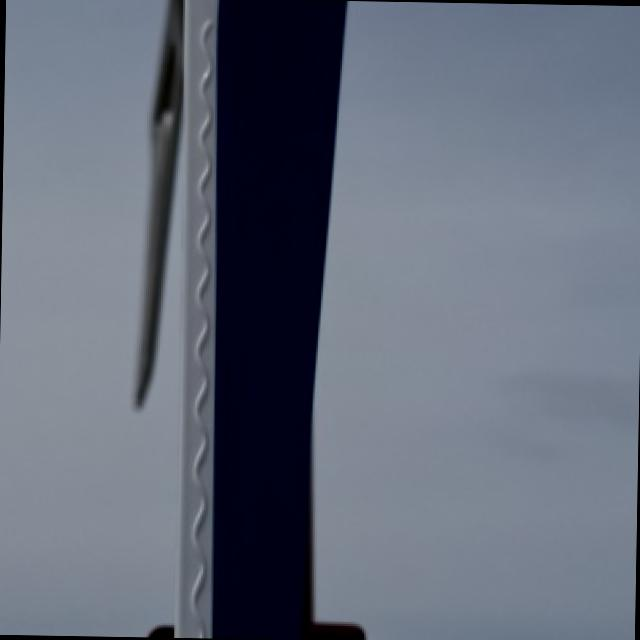healthy: (138, 0, 343, 638)
